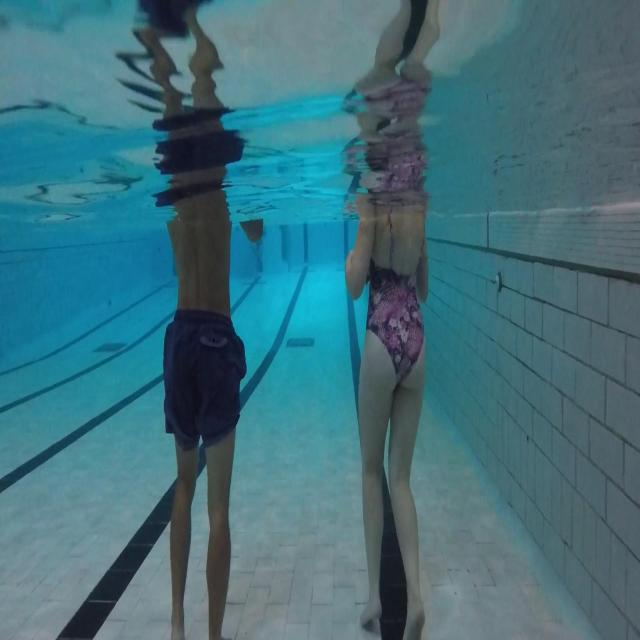human: (115, 1, 264, 637), (341, 1, 441, 637)
